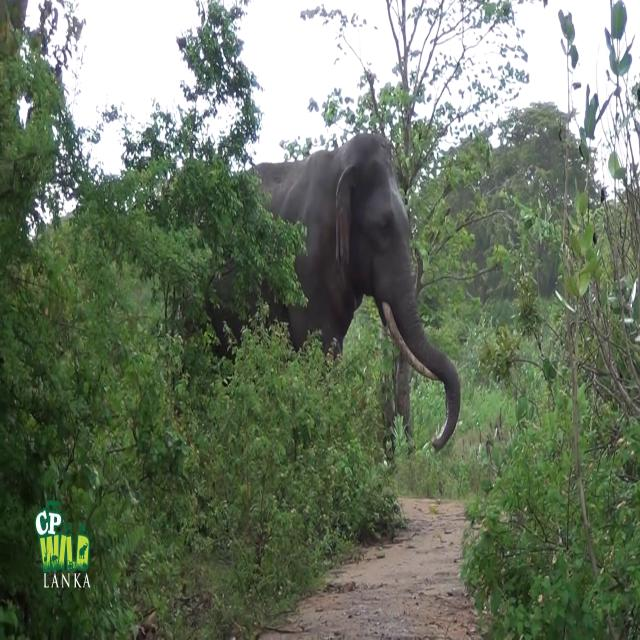Elephant: (187, 131, 461, 459)
